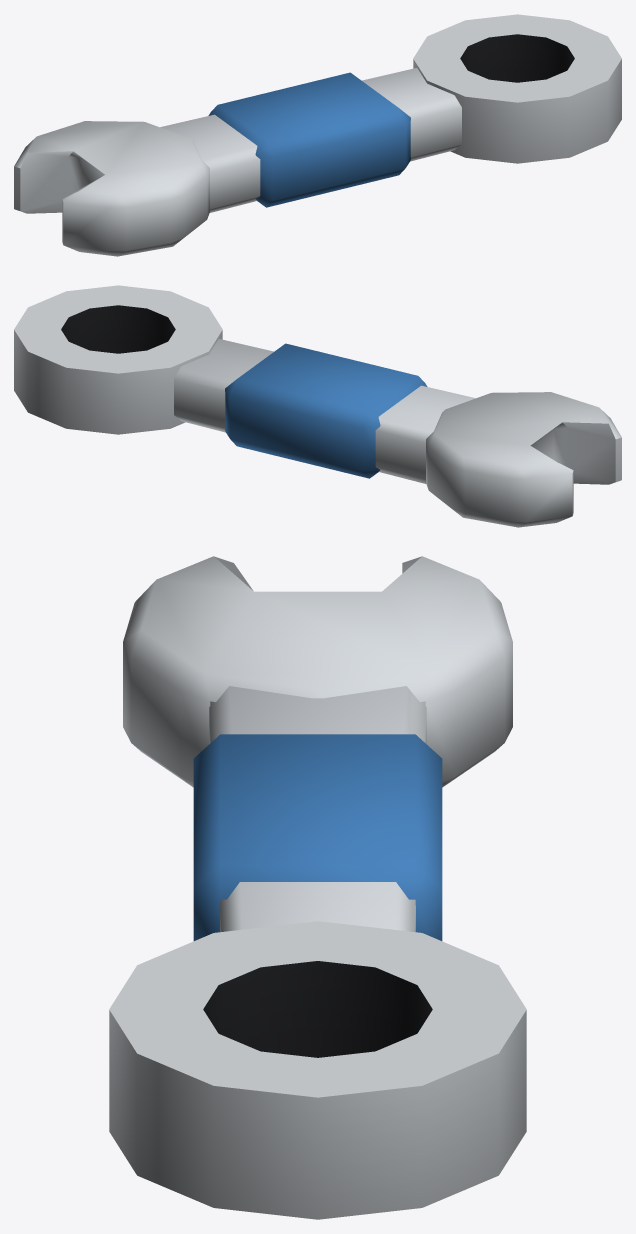
The model's file is SM_Wrench_Combo_01.glb.
3 views of the same model, one above another, from view 1: azimuth 30°, elevation 25°; view 2: azimuth 150°, elevation 25°; view 3: azimuth 270°, elevation 25° (orthographic). The views are drawn at different scales.
Parts seen in each view (by area): view 1: SM_Wrench_Combo_01; view 2: SM_Wrench_Combo_01; view 3: SM_Wrench_Combo_01.
Part boxes in pixels (box(x1,y1,x2,y2)): SM_Wrench_Combo_01: box(14, 14, 621, 256); SM_Wrench_Combo_01: box(14, 285, 621, 527); SM_Wrench_Combo_01: box(109, 556, 526, 1219).
Bounding box in the file's own units: 0.1952 × 0.022 × 0.062.
1 material, 1 textured.
